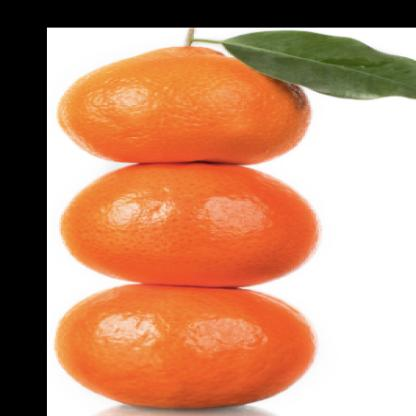fresh: (59, 43, 318, 413)
